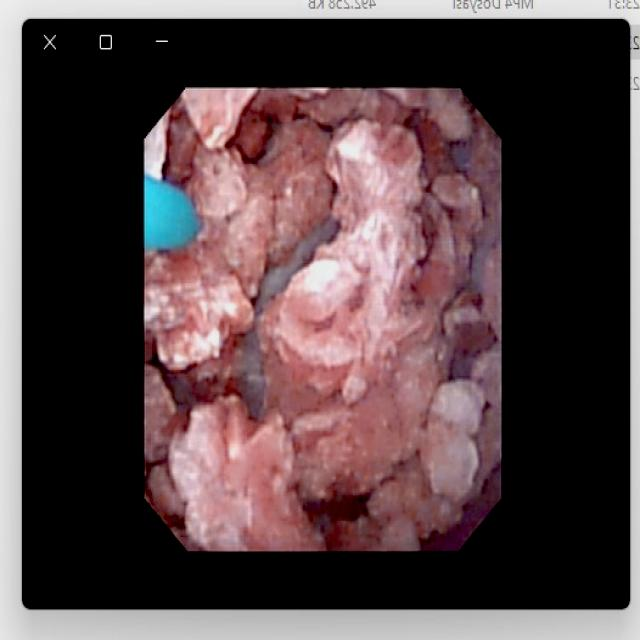fiber: (149, 184, 199, 245)
stone: (149, 95, 497, 543)
